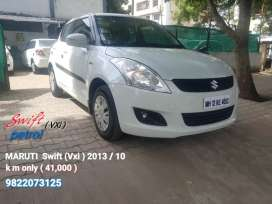license_plate: (202, 95, 233, 108)
